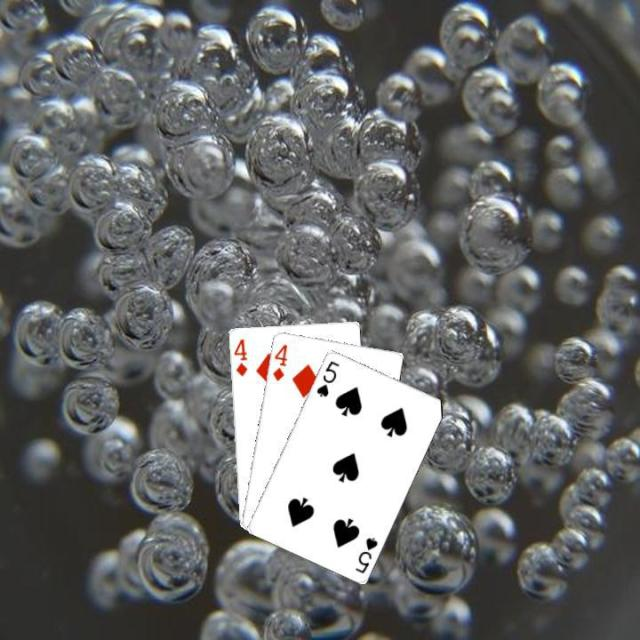4D: (268, 340, 289, 382), (230, 334, 249, 378)
5S: (351, 533, 380, 575), (312, 356, 340, 398)
